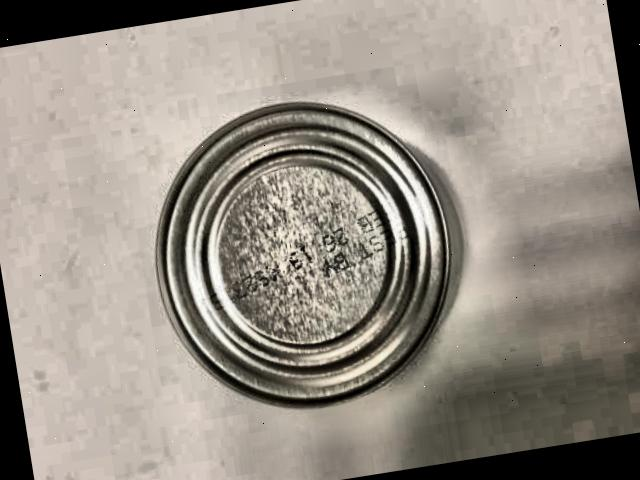Almennt: (117, 71, 488, 439)
